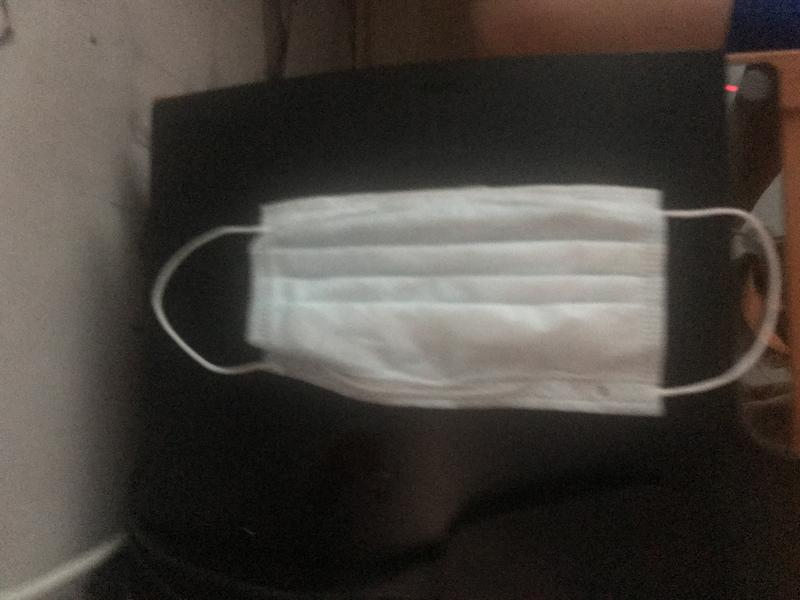medical_mask: (154, 189, 800, 414)
